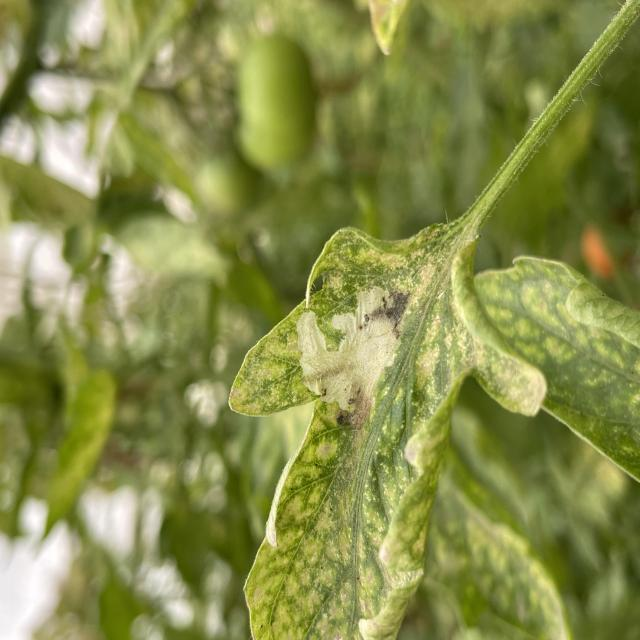Tuta absoluta: (276, 269, 412, 433)
